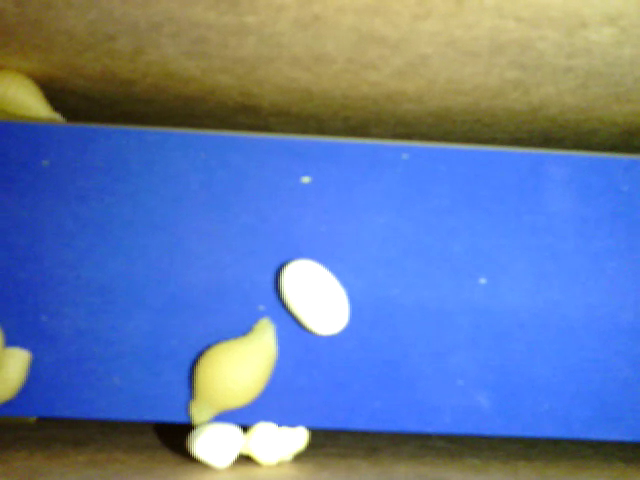shell: (187, 316, 279, 428), (3, 69, 66, 122)
